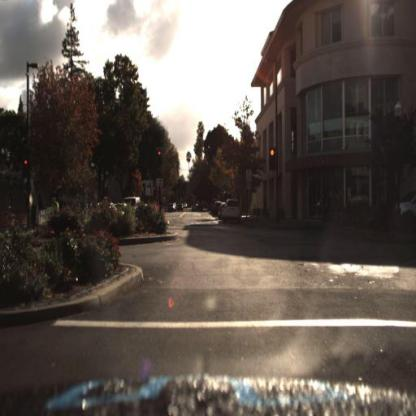biker: (46, 199, 63, 220)
car: (390, 185, 416, 224), (120, 196, 145, 224), (224, 198, 240, 222)
trafficLight-Red: (269, 142, 278, 168), (23, 156, 31, 175), (156, 145, 163, 166)
